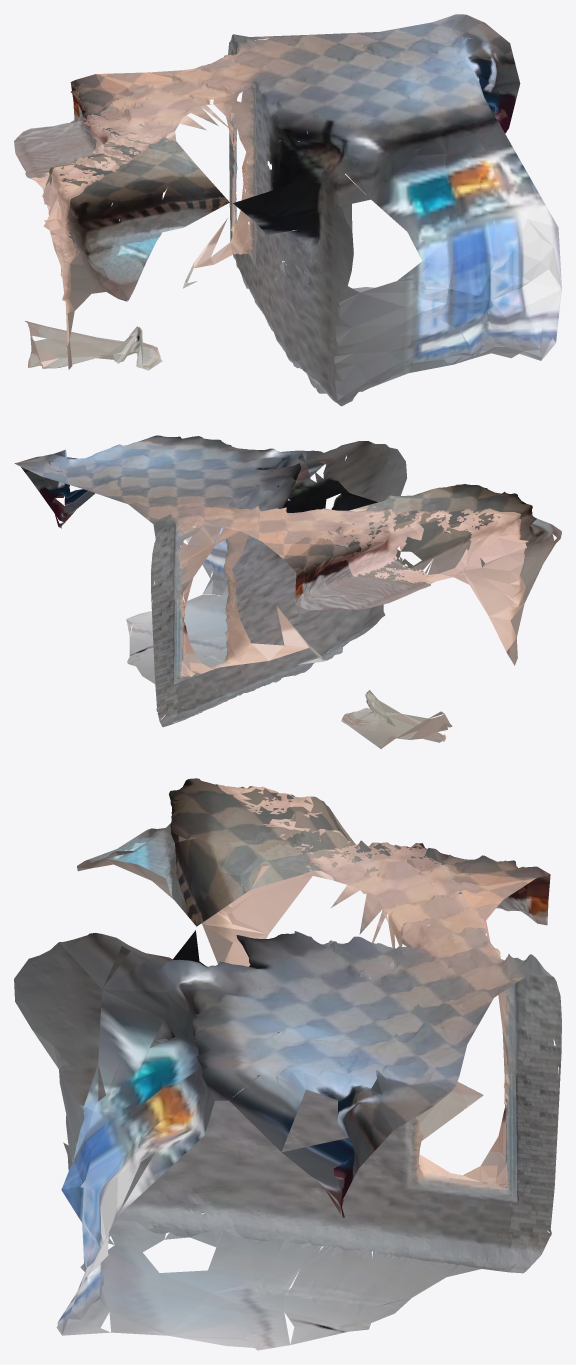
3 renders of one model, top to bottom at view 1: azimuth 30°, elevation 25°; view 2: azimuth 150°, elevation 25°; view 3: azimuth 270°, elevation 25°, orthographic. The views are drawn at different scales.
Bounding box in the file's own units: 6.42 × 2.85 × 4.41.
Materials: 1 (1 with a texture image).
